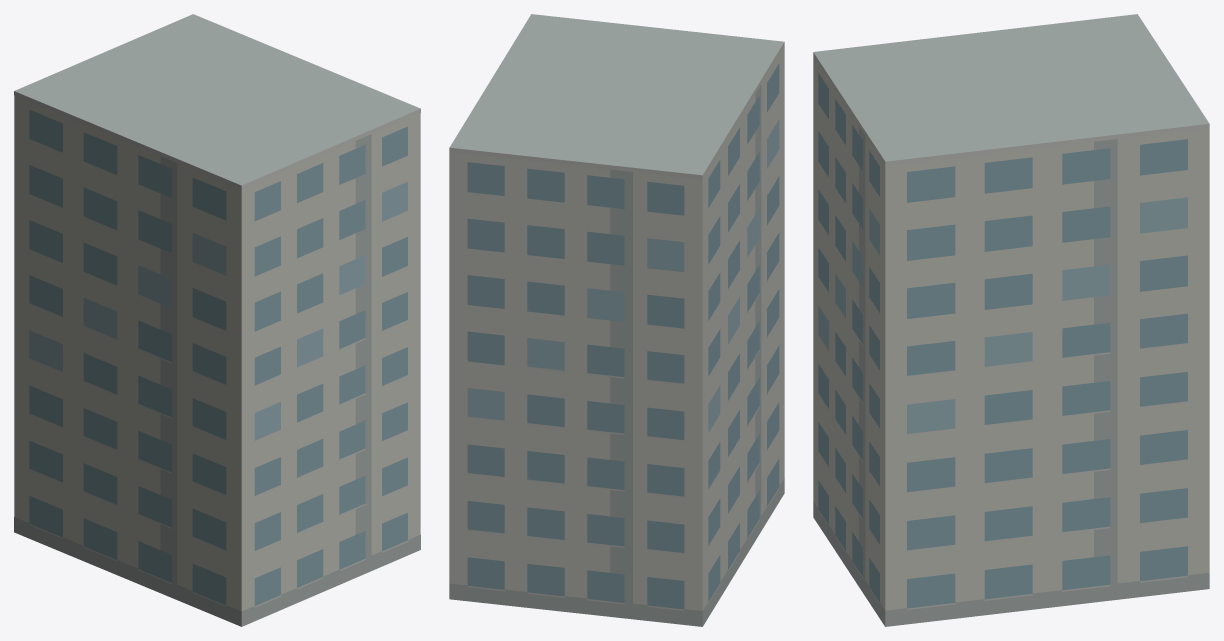
The model's file is survey-upis-32591065.glb.
The picture shows the model from 3 angles, left to right: view 1: azimuth 30°, elevation 25°; view 2: azimuth 150°, elevation 25°; view 3: azimuth 270°, elevation 25°; orthographic projection. The views are drawn at different scales.
Parts seen in each view (by area): view 1: survey-upis-32591065.tmp; view 2: survey-upis-32591065.tmp; view 3: survey-upis-32591065.tmp.
Part boxes in pixels (box(x1,y1,x2,y2)): survey-upis-32591065.tmp: box(14, 14, 420, 626); survey-upis-32591065.tmp: box(449, 14, 784, 626); survey-upis-32591065.tmp: box(813, 14, 1209, 626).
Bounding box in the file's own units: 17.03 × 25 × 19.31.
